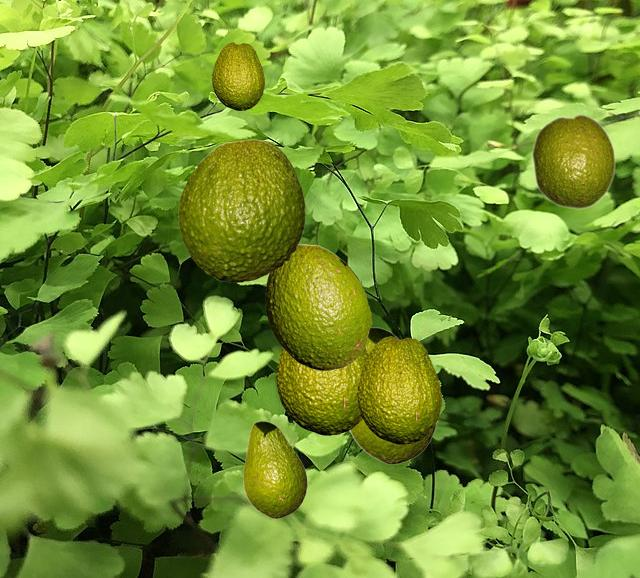avocado: (178, 139, 304, 281), (265, 244, 370, 369), (349, 327, 436, 463), (357, 336, 440, 443), (531, 113, 615, 209), (276, 347, 368, 434), (243, 421, 306, 517), (212, 42, 263, 109)
